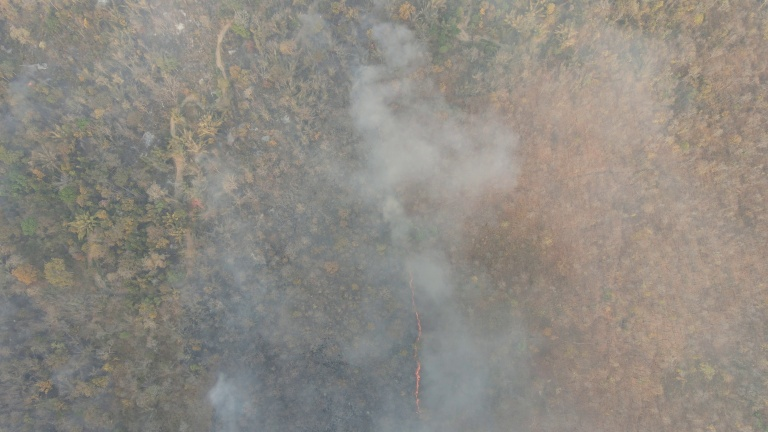fire: (402, 265, 433, 432)
smoke: (339, 56, 510, 226), (207, 372, 270, 421)
